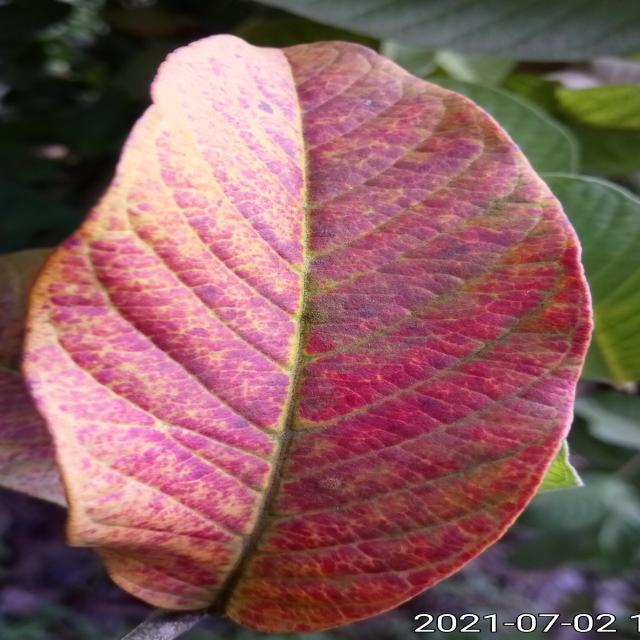Red Rust: (4, 35, 591, 631)
